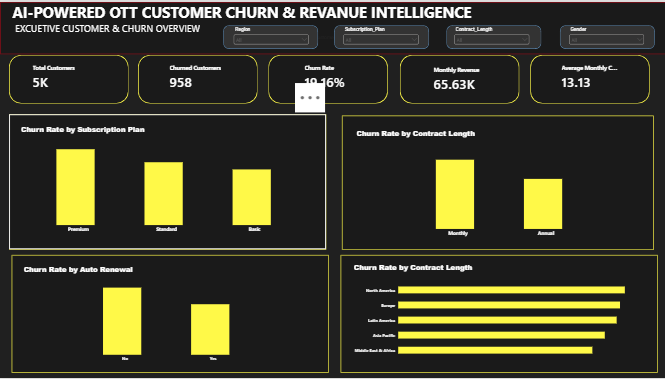

This screenshot's page, from the dashboard's own definition file:
{"tool":"powerbi","page":{"name":"Page 1","canvas":[1920,1080],"ordinal":0},"visuals":[{"type":"shape","box":[0,0,1920,150],"z":0},{"type":"textbox","box":[0,0,1921.6,136.1],"z":1000},{"type":"shape","box":[1608.7,68.2,272.8,68.2],"z":2000},{"type":"shape","box":[1279.7,68.2,272.8,68.2],"z":3000},{"type":"shape","box":[641.9,68.2,272.8,68.2],"z":4000},{"type":"shape","box":[958.8,68.2,272.8,68.2],"z":5000},{"type":"slicer","fields":{"Values":["OTT_Customer_Churn_5000.Region"]},"box":[666.4,70.9,224.5,61.8],"z":6000},{"type":"slicer","fields":{"Values":["OTT_Customer_Churn_5000.Gender"]},"box":[1630.9,70.9,224.5,61.8],"z":7000},{"type":"slicer","fields":{"Values":["OTT_Customer_Churn_5000.Contract_Length"]},"box":[1301.8,70,224.5,62.7],"z":8000},{"type":"slicer","fields":{"Values":["OTT_Customer_Churn_5000.Subscription_Plan"]},"box":[981.8,71.8,225.5,60.9],"z":9000},{"type":"shape","box":[26.7,150,343.3,140],"z":10000},{"type":"shape","box":[770,150,343.3,140],"z":11000},{"type":"shape","box":[1146.7,150,343.3,140],"z":12000},{"type":"shape","box":[1523.3,150,343.3,140],"z":13000},{"type":"shape","box":[396.7,150,343.3,140],"z":14000},{"type":"shape","box":[25.5,321.6,911.1,388.9],"z":15000},{"type":"shape","box":[32.9,724.6,911.1,338.9],"z":16000},{"type":"shape","box":[981.8,327.3,895.5,386.4],"z":17000},{"type":"shape","box":[977.2,725.8,911.1,338.9],"z":18000},{"type":"cardVisual","fields":{"Data":["OTT_Customer_Churn_5000.Total Customers"]},"box":[77.8,158.3,197.2,119.4],"z":19000},{"type":"cardVisual","fields":{"Data":["OTT_Customer_Churn_5000.Monthly Revenue"]},"box":[1230.6,161.1,197.2,119.4],"z":20000},{"type":"cardVisual","fields":{"Data":["OTT_Customer_Churn_5000.Churn Rate"]},"box":[858.3,158.3,197.2,119.4],"z":21000},{"type":"cardVisual","fields":{"Data":["OTT_Customer_Churn_5000.Churned Customers"]},"box":[469.4,158.3,197.2,119.4],"z":22000},{"type":"cardVisual","fields":{"Data":["OTT_Customer_Churn_5000.Average Monthly Charges"]},"box":[1597.2,158.3,197.2,119.4],"z":23000},{"type":"clusteredColumnChart","title":"Churn Rate by Subscription Plan ","fields":{"Category":["OTT_Customer_Churn_5000.Subscription_Plan"],"Y":["OTT_Customer_Churn_5000.Churn Rate"]},"box":[44.9,335.5,866.7,347.2],"z":24000},{"type":"clusteredColumnChart","title":"Churn Rate by Auto Renewal","fields":{"Category":["OTT_Customer_Churn_5000.Auto_Renewal"],"Y":["OTT_Customer_Churn_5000.Churn Rate"]},"box":[52.4,741.3,866.7,313.9],"z":25000},{"type":"clusteredColumnChart","title":"Churn Rate by Contract Length","fields":{"Category":["OTT_Customer_Churn_5000.Contract_Length"],"Y":["OTT_Customer_Churn_5000.Churn Rate"]},"box":[1007.3,347.4,866.7,347.2],"z":26000},{"type":"clusteredBarChart","title":"Churn Rate by Contract Length","fields":{"Category":["OTT_Customer_Churn_5000.Region"],"Y":["OTT_Customer_Churn_5000.Churn Rate"]},"box":[1000.6,733,866.7,311.1],"z":27000}]}

Visuals, with their boxes in screenshot pixels (x1, y1, x2, y2), scaled from the page's 1920x1080 canvas onto the 665x379 screenshot:
shape: <bbox>0, 0, 664, 53</bbox>
textbox: <bbox>0, 0, 664, 48</bbox>
shape: <bbox>557, 24, 652, 48</bbox>
shape: <bbox>443, 24, 538, 48</bbox>
shape: <bbox>222, 24, 317, 48</bbox>
shape: <bbox>332, 24, 427, 48</bbox>
slicer - OTT_Customer_Churn_5000.Region: <bbox>231, 25, 309, 47</bbox>
slicer - OTT_Customer_Churn_5000.Gender: <bbox>565, 25, 643, 47</bbox>
slicer - OTT_Customer_Churn_5000.Contract_Length: <bbox>451, 25, 529, 47</bbox>
slicer - OTT_Customer_Churn_5000.Subscription_Plan: <bbox>340, 25, 418, 47</bbox>
shape: <bbox>9, 53, 128, 102</bbox>
shape: <bbox>267, 53, 386, 102</bbox>
shape: <bbox>397, 53, 516, 102</bbox>
shape: <bbox>528, 53, 647, 102</bbox>
shape: <bbox>137, 53, 256, 102</bbox>
shape: <bbox>9, 113, 324, 249</bbox>
shape: <bbox>11, 254, 327, 373</bbox>
shape: <bbox>340, 115, 650, 250</bbox>
shape: <bbox>338, 255, 654, 374</bbox>
cardVisual - OTT_Customer_Churn_5000.Total Customers: <bbox>27, 56, 95, 97</bbox>
cardVisual - OTT_Customer_Churn_5000.Monthly Revenue: <bbox>426, 57, 495, 98</bbox>
cardVisual - OTT_Customer_Churn_5000.Churn Rate: <bbox>297, 56, 366, 97</bbox>
cardVisual - OTT_Customer_Churn_5000.Churned Customers: <bbox>163, 56, 231, 97</bbox>
cardVisual - OTT_Customer_Churn_5000.Average Monthly Charges: <bbox>553, 56, 621, 97</bbox>
"Churn Rate by Subscription Plan " clusteredColumnChart: <bbox>16, 118, 316, 240</bbox>
"Churn Rate by Auto Renewal" clusteredColumnChart: <bbox>18, 260, 318, 370</bbox>
"Churn Rate by Contract Length" clusteredColumnChart: <bbox>349, 122, 649, 244</bbox>
"Churn Rate by Contract Length" clusteredBarChart: <bbox>347, 257, 647, 366</bbox>
